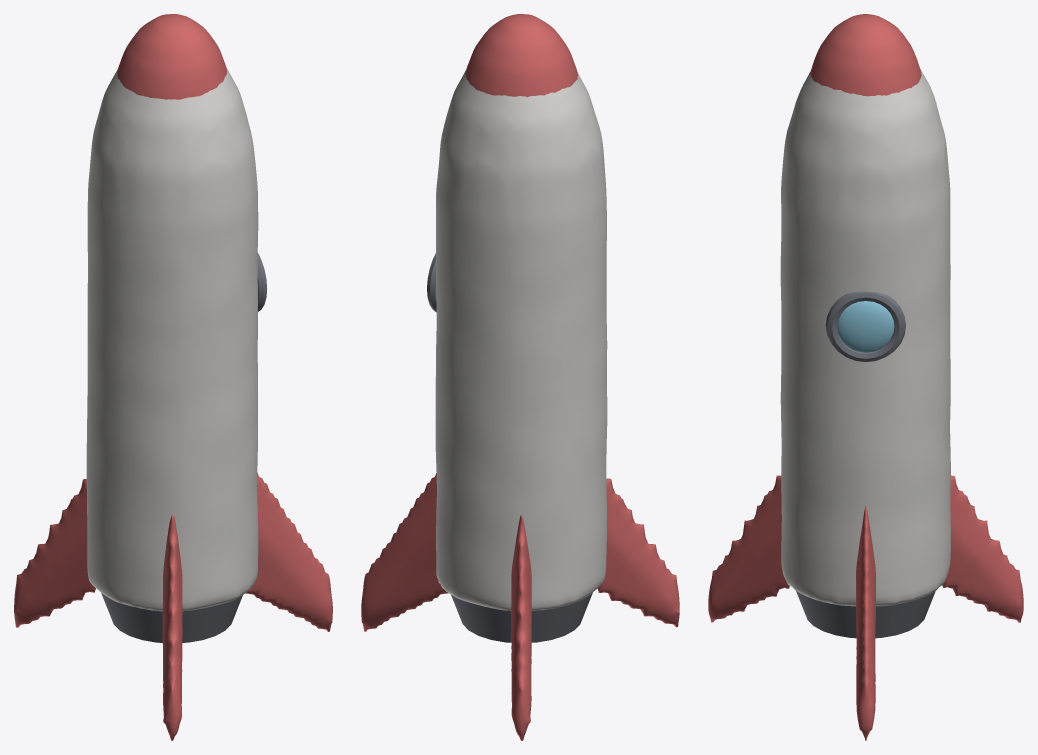
The model's file is SM_Rocket.glb.
The picture shows the model from 3 angles, left to right: view 1: azimuth 30°, elevation 25°; view 2: azimuth 150°, elevation 25°; view 3: azimuth 270°, elevation 25°; orthographic projection.
Parts seen in each view (by area): view 1: SM_Rocket; view 2: SM_Rocket; view 3: SM_Rocket.
Part boxes in pixels (x1,y1,x2,y2): SM_Rocket: [14, 14, 332, 740]; SM_Rocket: [361, 14, 679, 740]; SM_Rocket: [708, 14, 1023, 740].
Bounding box in the file's own units: 0.7818 × 2.01 × 0.8874.
